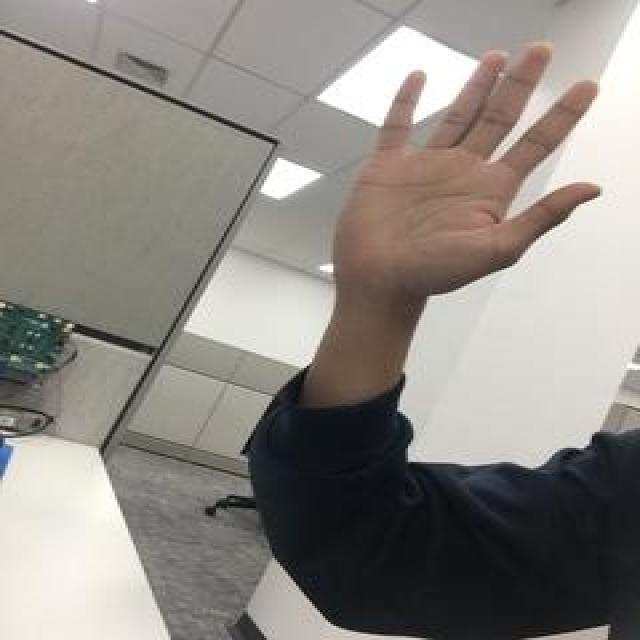hand: (324, 38, 604, 292)
